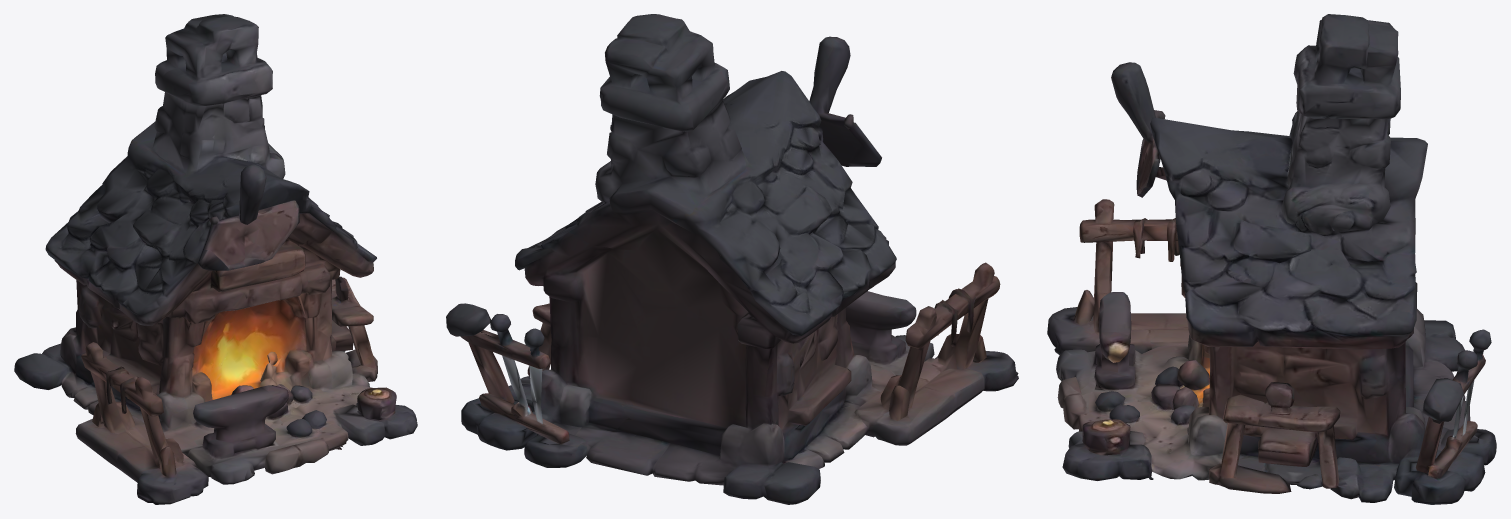
File: tripo-forja154.glb
3 renders of one model, left to right at view 1: azimuth 30°, elevation 25°; view 2: azimuth 150°, elevation 25°; view 3: azimuth 270°, elevation 25°, orthographic. The views are drawn at different scales.
Visible parts, largest first — view 1: tripo_node_48a9b6ff-fa36-43d9-9934-3f0f5cabb71f; view 2: tripo_node_48a9b6ff-fa36-43d9-9934-3f0f5cabb71f; view 3: tripo_node_48a9b6ff-fa36-43d9-9934-3f0f5cabb71f.
Boxes of the visible parts, x1=… form: tripo_node_48a9b6ff-fa36-43d9-9934-3f0f5cabb71f: x1=14, y1=14, x2=417, y2=504; tripo_node_48a9b6ff-fa36-43d9-9934-3f0f5cabb71f: x1=446, y1=14, x2=1018, y2=504; tripo_node_48a9b6ff-fa36-43d9-9934-3f0f5cabb71f: x1=1047, y1=14, x2=1496, y2=504.
Bounding box in the file's own units: 0.9787 × 0.9664 × 0.945.
1 material, 1 textured.
